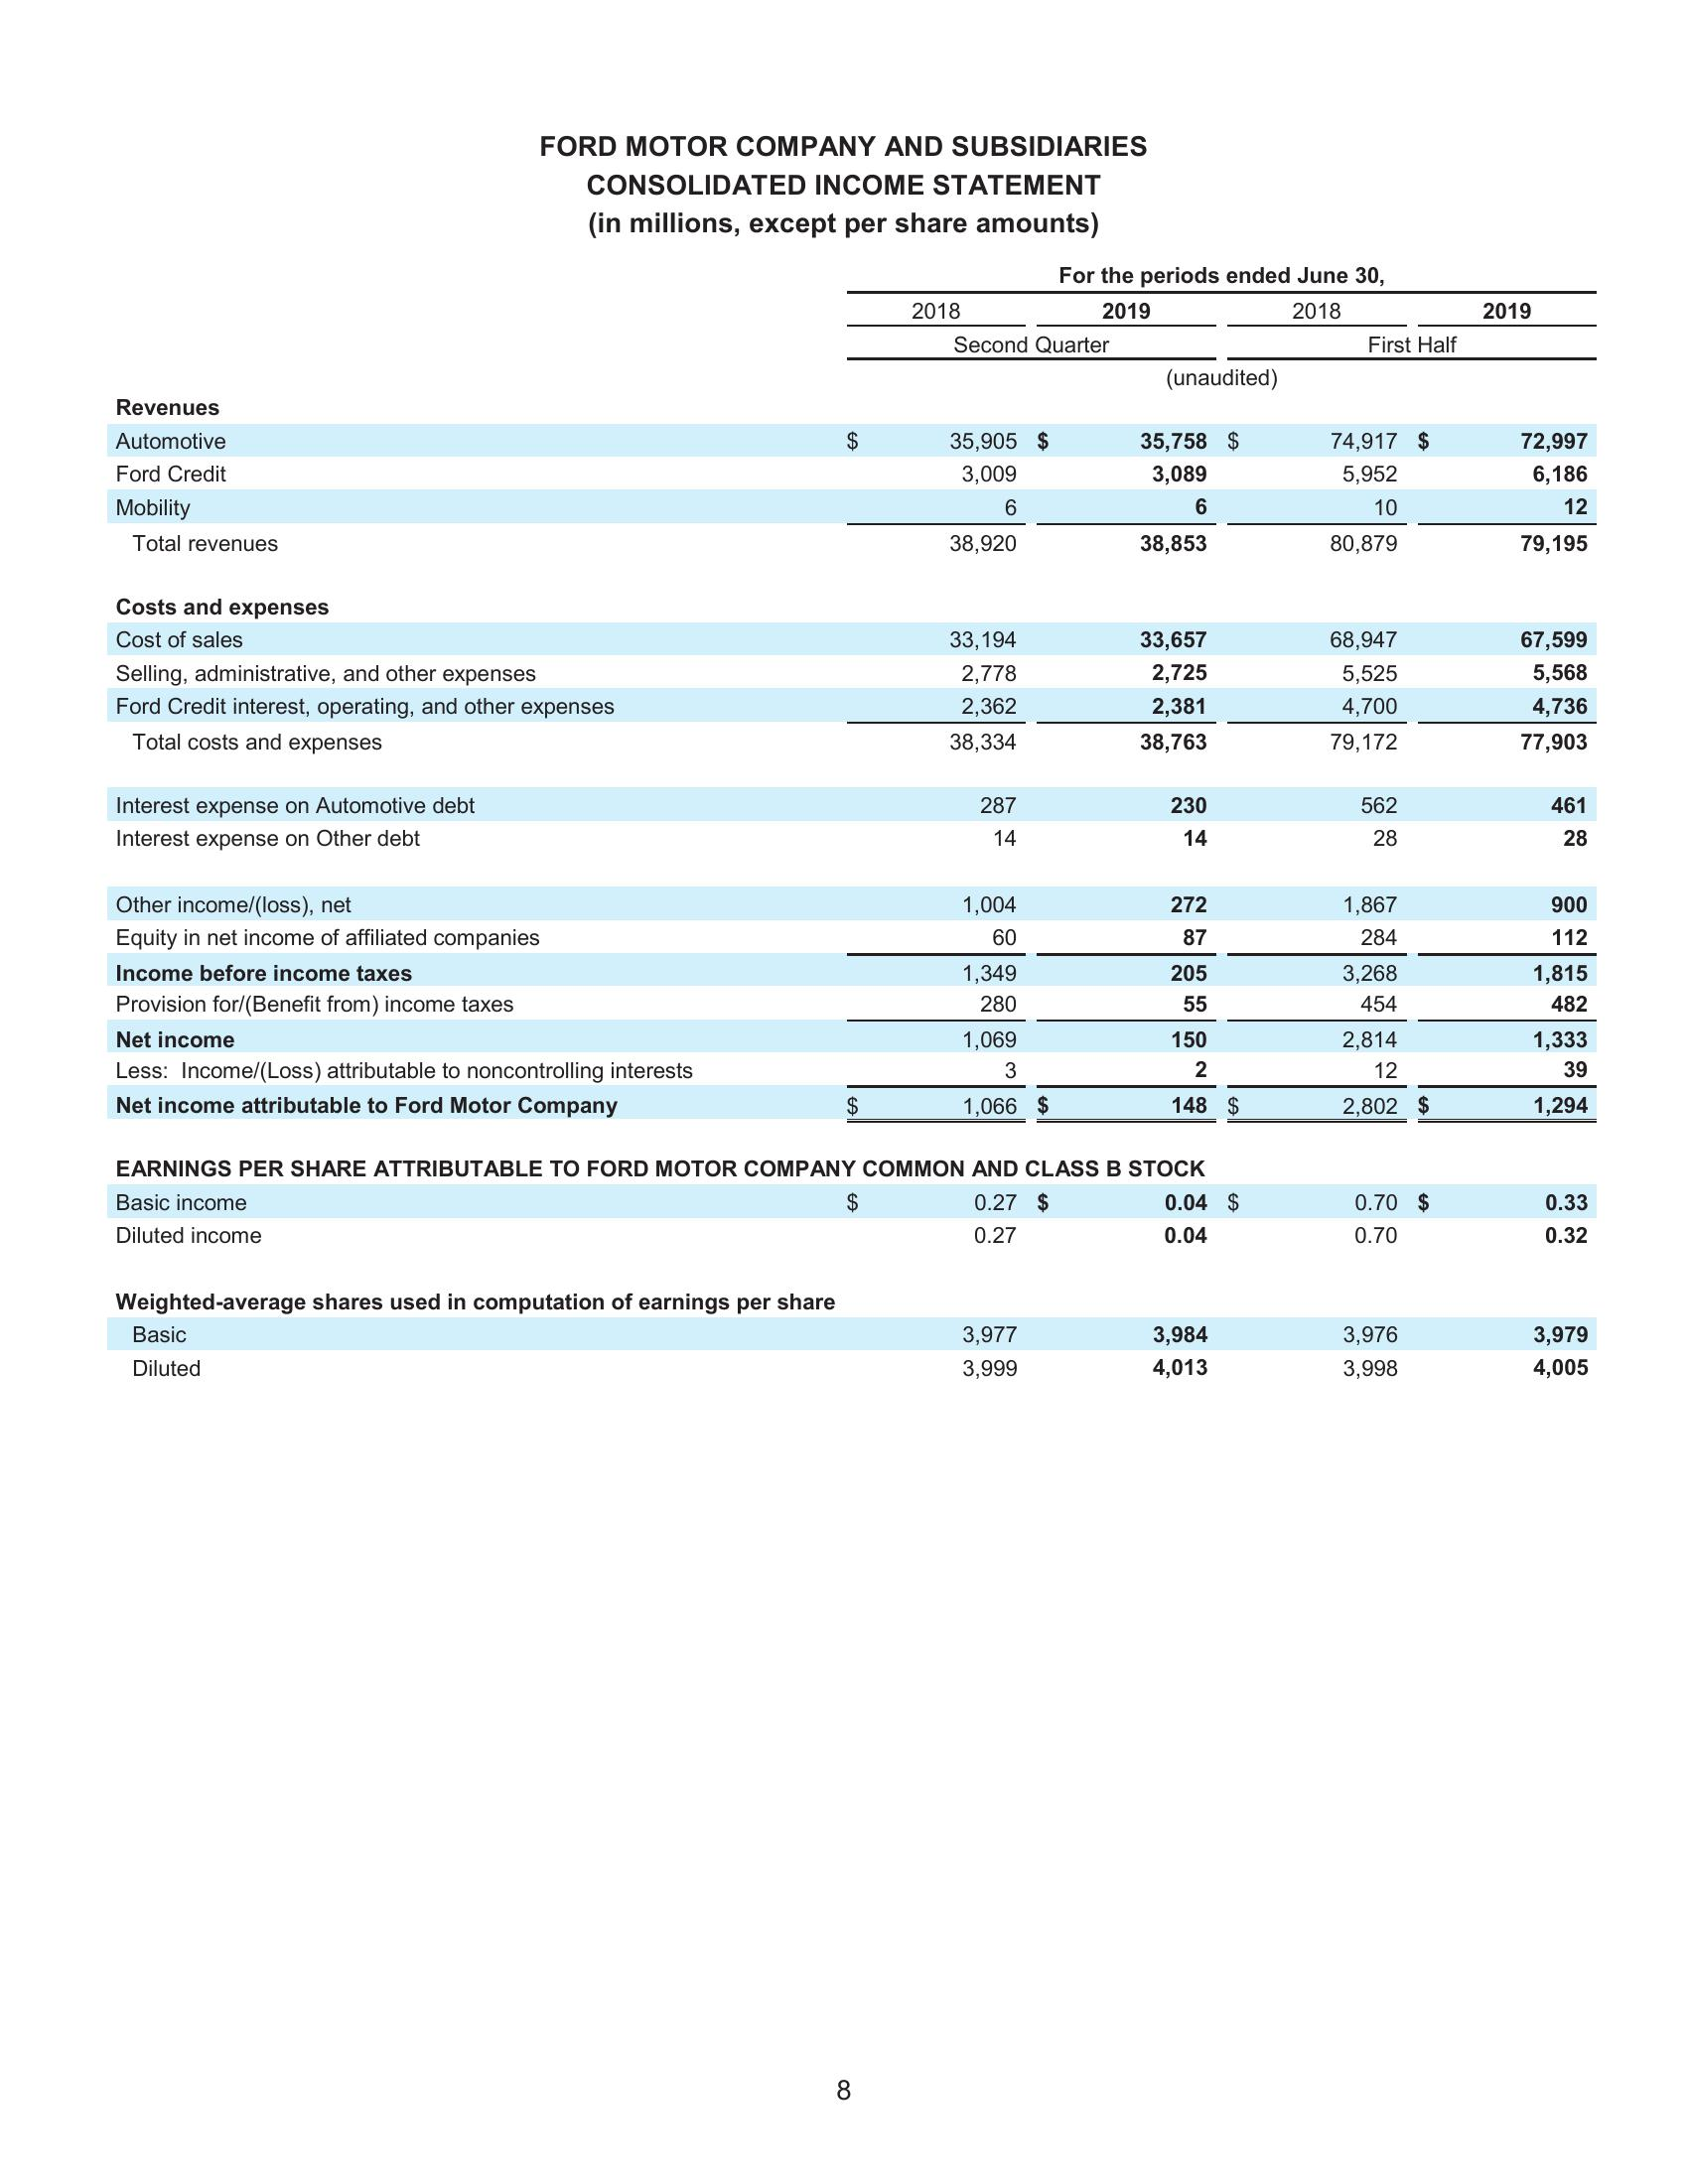table: (96, 255, 1606, 1383)
